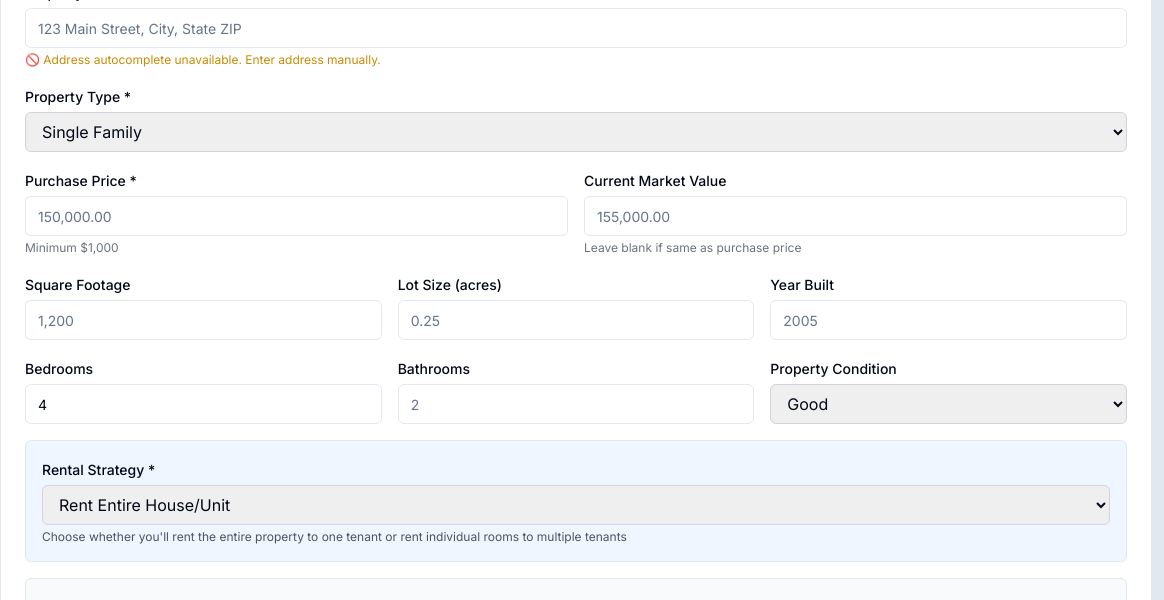
PropertyDetailsForm › allows user to set number of rooms to rent and weekly rates, and calculates total monthly rent
The image size is (1164, 600).
# First, set rental strategy to individual-rooms to show the room controls
Select "Rent Individual Rooms" in the dropdown labelled "Rental Strategy *": (576, 505) [42,485,1110,525]
(page scrolled)
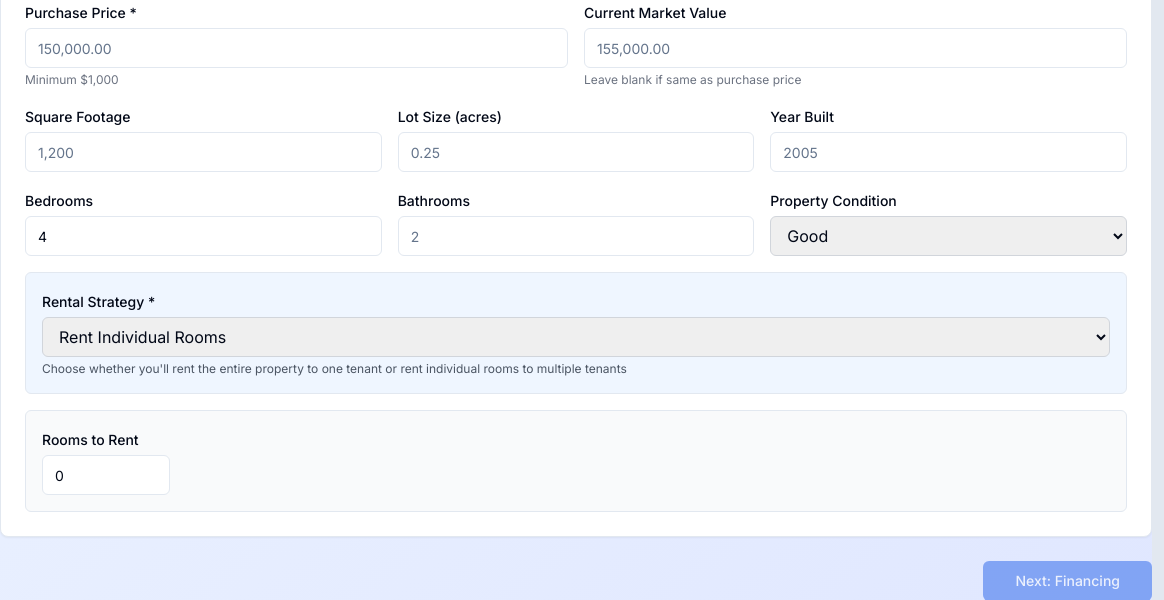
# Set number of rooms to rent
Replace the text in the number field labelled "Rooms to Rent" with "3": (106, 475) [42,455,170,495]
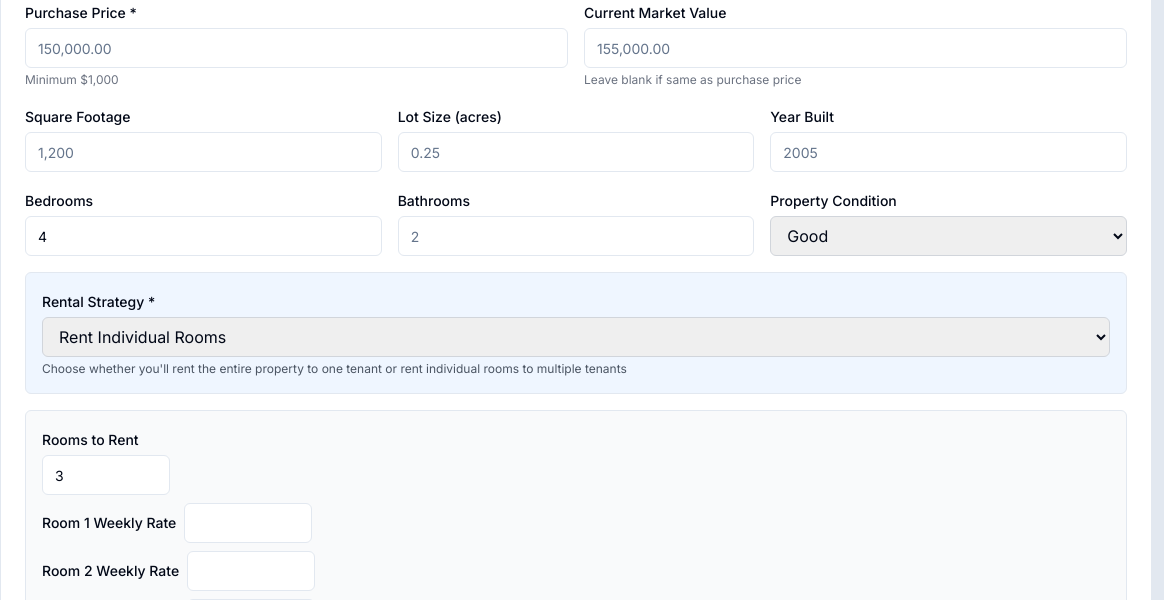
# Set weekly rates for each room
In the field labelled "Room 1 Weekly Rate": (248, 523) [184,503,312,543], type "100"
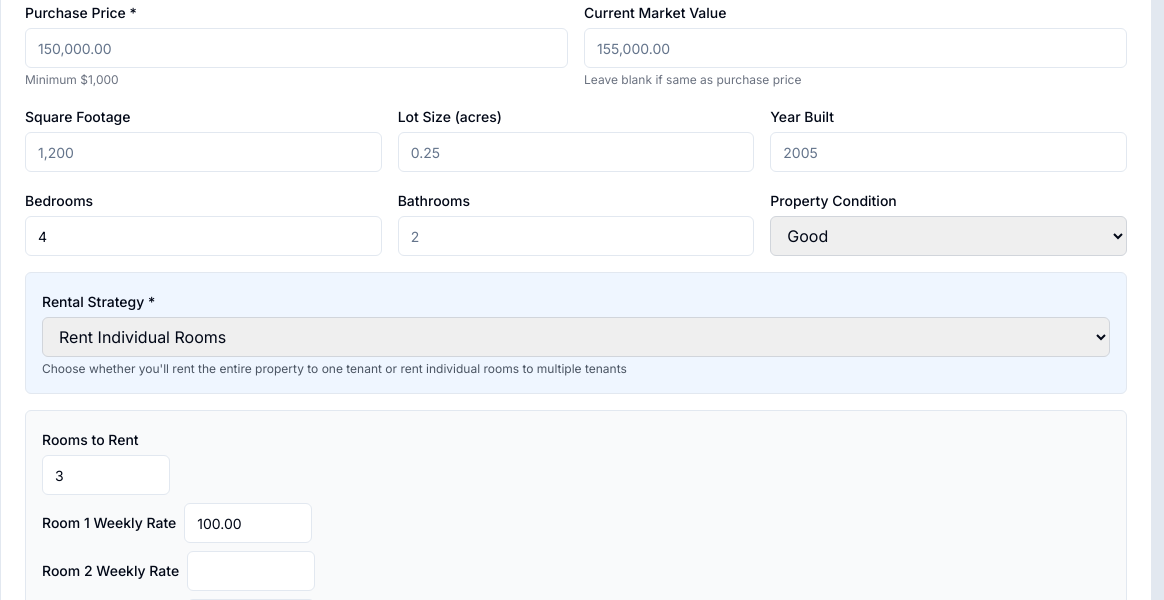
In the field labelled "Room 2 Weekly Rate": (251, 571) [187,551,315,591], type "150"
(page scrolled)
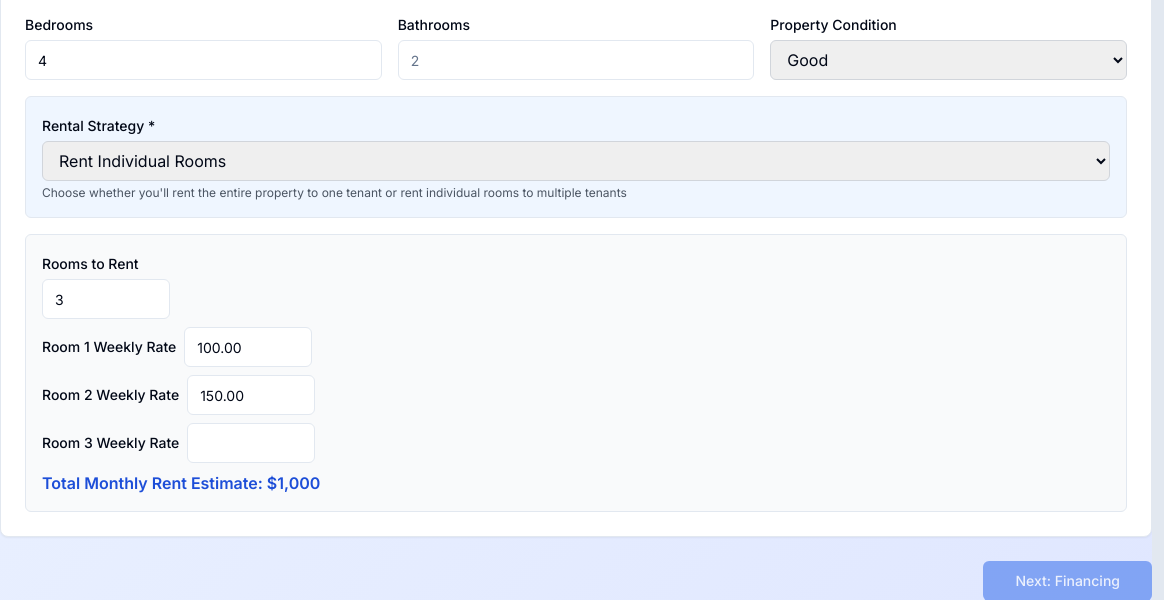
In the field labelled "Room 3 Weekly Rate": (251, 443) [187,423,315,463], type "200"
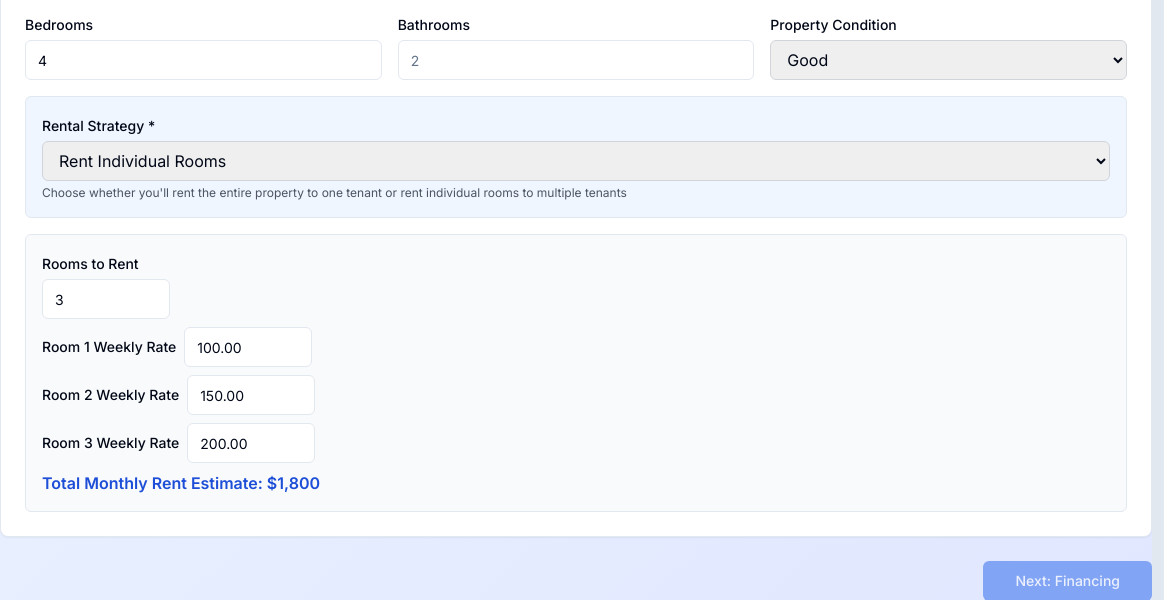
Check: the text "Total Monthly Rent Estimate: $1,800" is shown, box [42,473,320,493]
